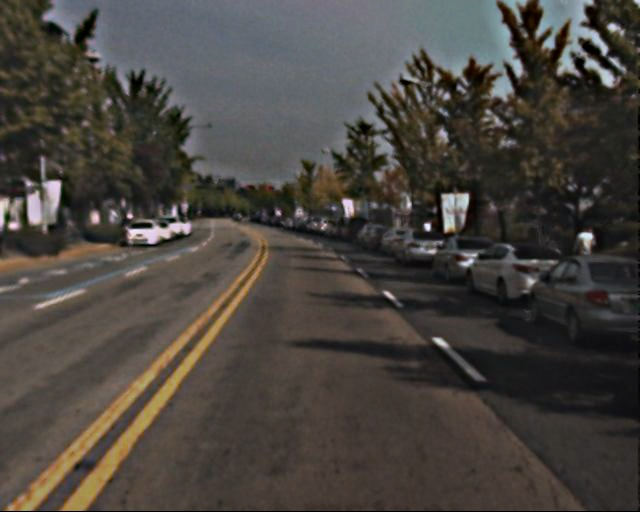person: (567, 223, 597, 285), (539, 221, 568, 283)
